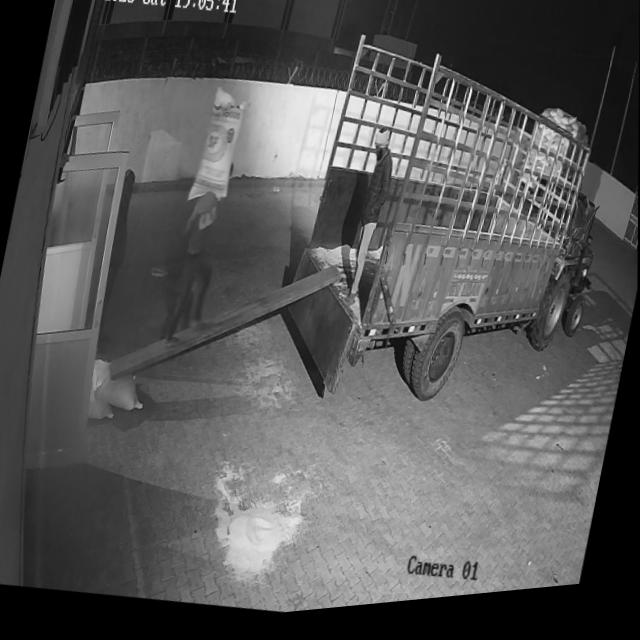sack: (187, 86, 249, 212), (87, 355, 152, 418)
